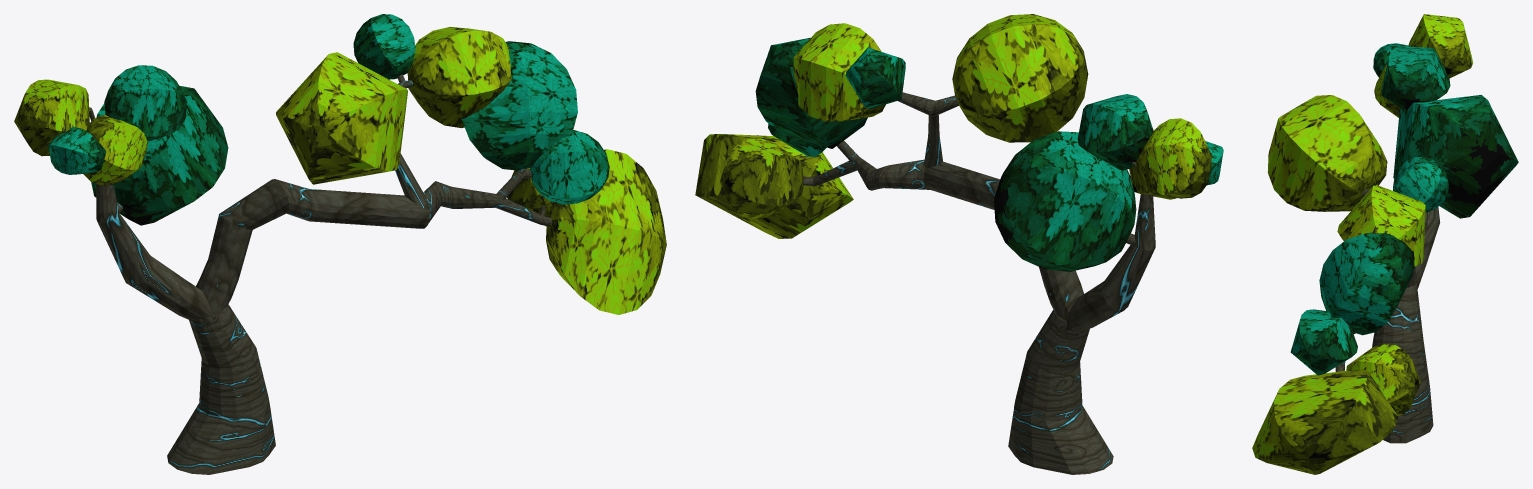
The model's file is Tree1.glb.
3 views of the same model, side by side, from view 1: azimuth 30°, elevation 25°; view 2: azimuth 150°, elevation 25°; view 3: azimuth 270°, elevation 25° (orthographic). The views are drawn at different scales.
Parts seen in each view (by area): view 1: Trunk, Sphere.011, Sphere.002, Sphere.005, Sphere.007, Sphere.006, Leafs, Sphere.009, Sphere.001, Sphere.003, Sphere.010, Sphere.008 (+1 smaller); view 2: Trunk, Sphere.007, Sphere.002, Sphere.011, Sphere.006, Sphere.004, Sphere.005, Sphere.001, Leafs, Sphere.003, Sphere.009, Sphere.010; view 3: Sphere.011, Sphere.002, Sphere.007, Sphere.005, Trunk, Sphere.006, Leafs, Sphere.009, Sphere.004, Sphere.001, Sphere.003, Sphere.008 (+1 smaller).
Boxes of the visible parts, x1,y1,x2,y2 form: Trunk: (89,74,551,474); Sphere.011: (546,149,666,314); Sphere.002: (276,52,407,184); Sphere.005: (461,41,577,170); Sphere.007: (91,85,228,225); Sphere.006: (407,26,511,128); Leafs: (104,65,187,141); Sphere.009: (530,130,609,204); Sphere.001: (14,79,89,156); Sphere.003: (353,14,415,79); Sphere.010: (83,115,147,185); Sphere.008: (48,127,106,174); Trunk: (803,92,1155,474); Sphere.007: (994,131,1136,271); Sphere.002: (952,14,1088,142); Sphere.011: (695,134,853,238); Sphere.006: (793,23,885,121); Sphere.004: (720,138,803,219); Sphere.005: (755,37,867,148); Sphere.001: (1140,118,1211,198); Leafs: (1077,94,1153,170); Sphere.003: (845,47,905,108); Sphere.009: (768,123,826,156); Sphere.010: (1129,128,1176,199); Sphere.011: (1252,369,1398,474); Sphere.002: (1267,95,1387,211); Sphere.007: (1393,95,1518,218); Sphere.005: (1319,233,1414,335); Trunk: (1335,189,1440,443); Sphere.006: (1337,184,1425,266); Leafs: (1381,46,1450,109); Sphere.009: (1290,309,1357,375); Sphere.004: (1346,344,1420,415); Sphere.001: (1408,14,1472,78); Sphere.003: (1393,156,1448,212); Sphere.008: (1373,43,1409,77).
Size of the model in its own units: 1.27 by 0.8457 by 0.5769.
13 materials, 13 textured.
